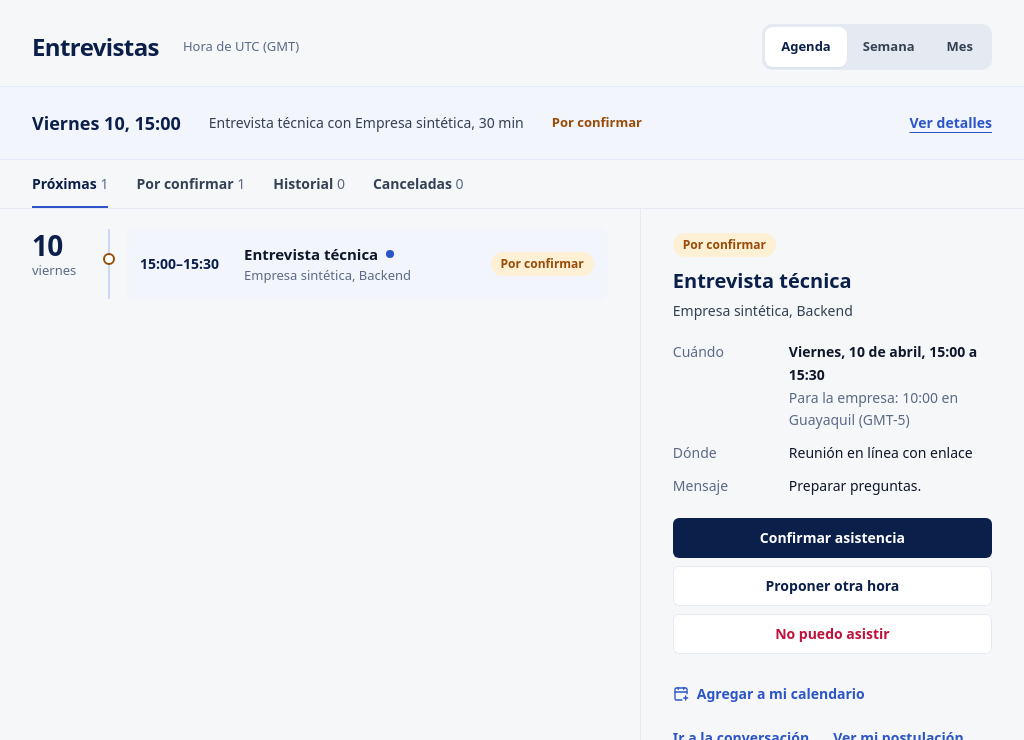
Test case: entrevistas del candidato › tras un conflicto no repite la acción y ofrece ver la versión actual
What coordinates should you click on to do the following:
click the button "Confirmar asistencia"
I would click on:
 (832, 538)
Its box is [673,518,992,558].
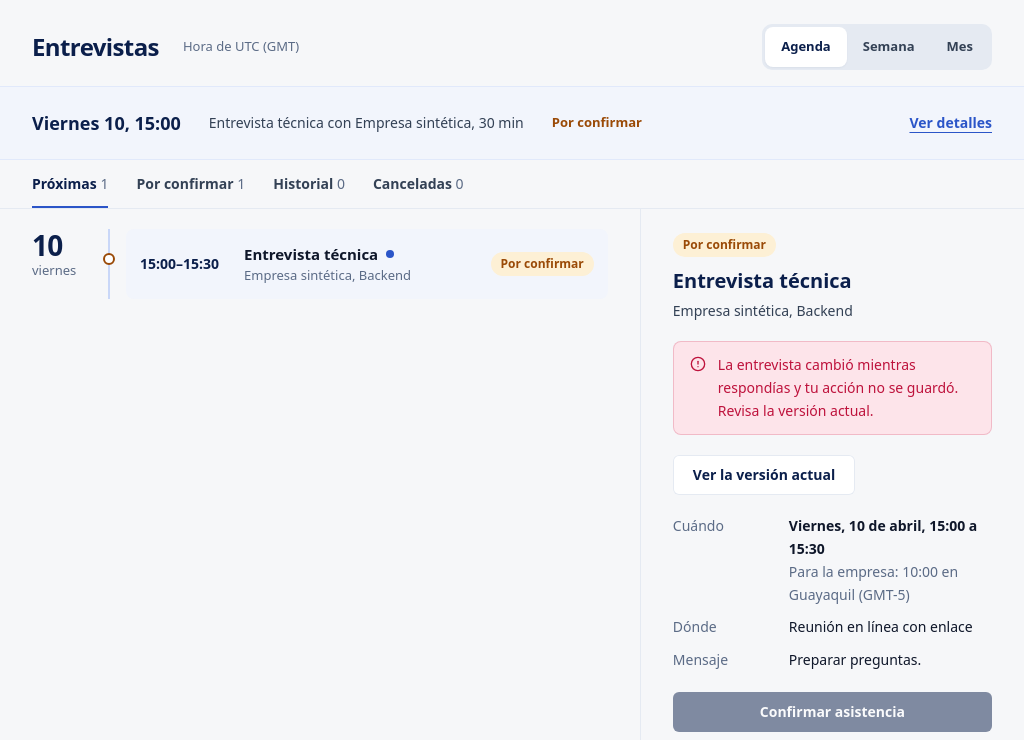
Expected: the text "cambió mientras respondías" is shown, [718,355,958,420]
Expected: the button "Confirmar asistencia" is disabled, [673,692,992,732]
What coordinates should you click on to do the following:
click the button "Ver la versión actual"
I would click on:
 (764, 475)
Its box is [673,455,855,495].
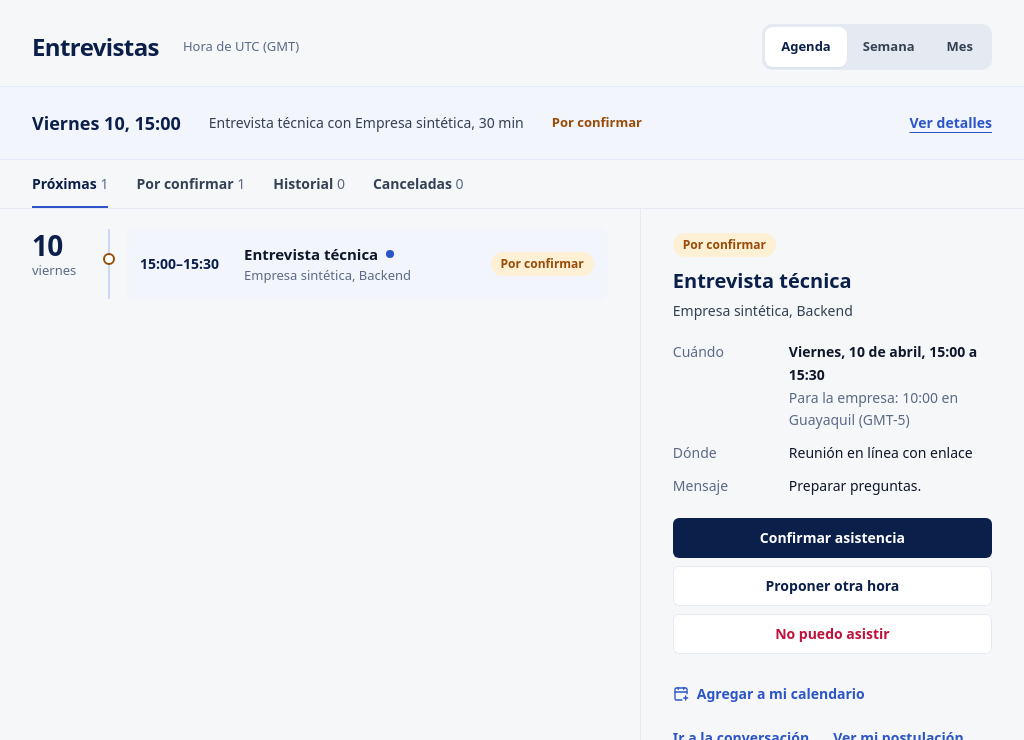
Expected: the button "Confirmar asistencia" is enabled, [673,518,992,558]
